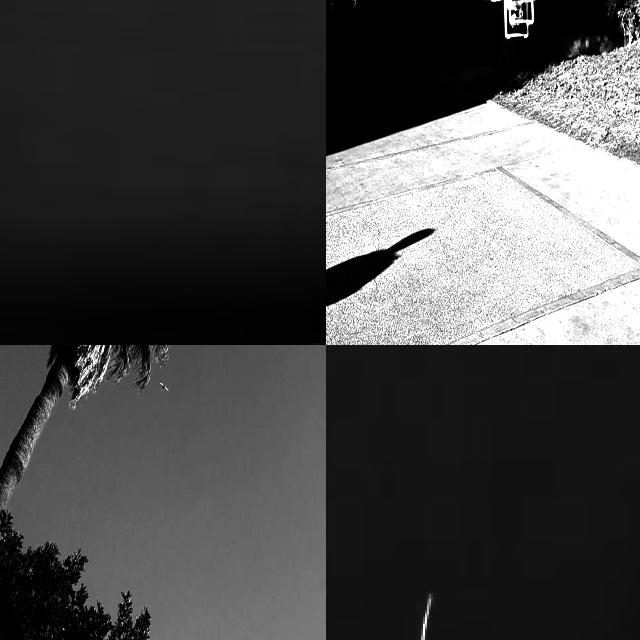drone: (485, 0, 550, 43)
